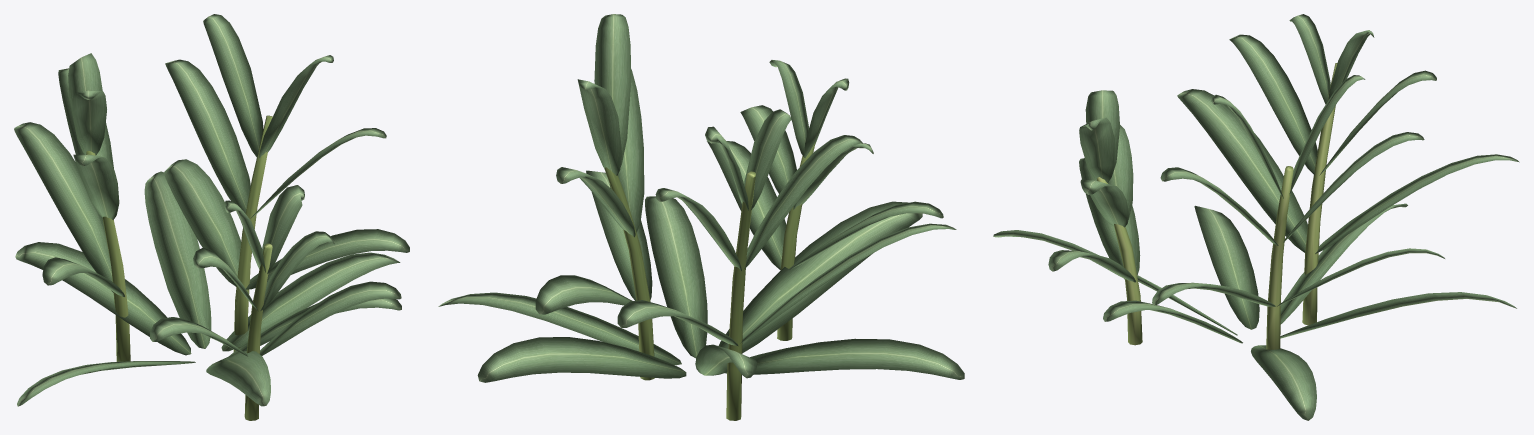
File: NP_Lavender_Young_LOD1.fbx
3 renders of one model, left to right at view 1: azimuth 30°, elevation 25°; view 2: azimuth 150°, elevation 25°; view 3: azimuth 270°, elevation 25°, orthographic. The views are drawn at different scales.
Parts seen in each view (by area): view 1: NP_Lavender_Young; view 2: NP_Lavender_Young; view 3: NP_Lavender_Young.
Part boxes in pixels (<box>): NP_Lavender_Young: <box>14,14,409,420</box>; NP_Lavender_Young: <box>438,14,964,420</box>; NP_Lavender_Young: <box>993,14,1519,420</box>.
Bounding box in the file's own units: 34.93 × 23.15 × 36.76.
1 material, 1 textured.
